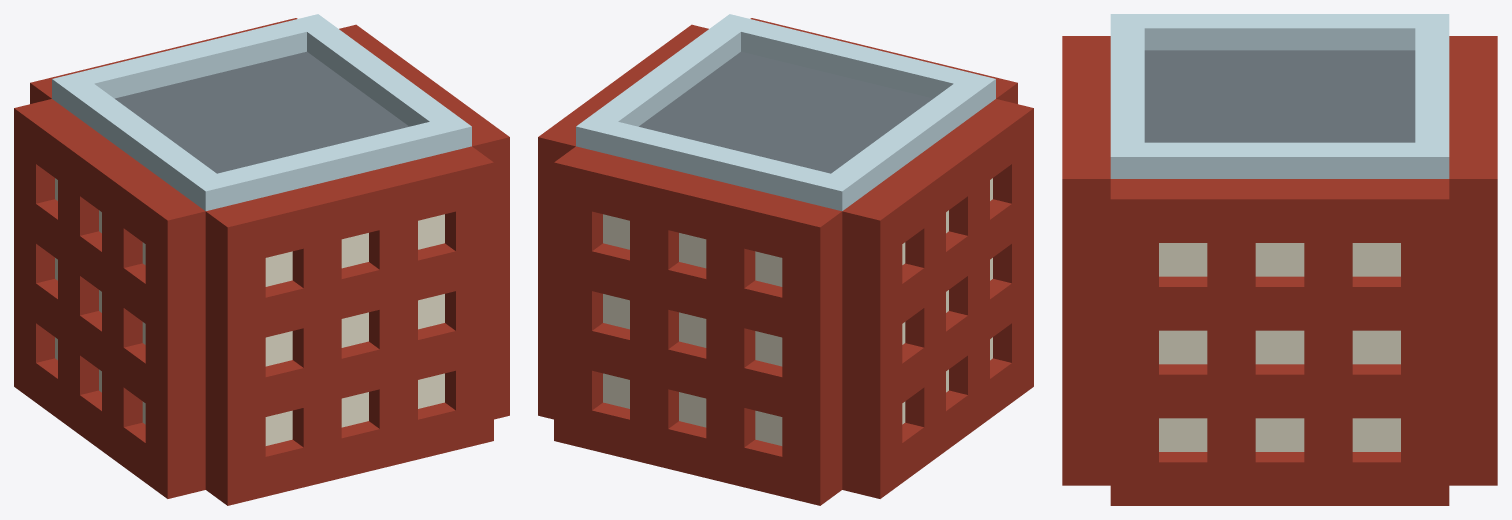
The model's file is Building_1 (Red).obj.
3 views of the same model, side by side, from view 1: azimuth 30°, elevation 25°; view 2: azimuth 150°, elevation 25°; view 3: azimuth 270°, elevation 25° (orthographic). The views are drawn at different scales.
Visible parts, largest first — view 1: Building_1_(Red); view 2: Building_1_(Red); view 3: Building_1_(Red).
Boxes of the visible parts, x1,y1,x2,y2 form: Building_1_(Red): [14, 14, 509, 505]; Building_1_(Red): [538, 14, 1033, 505]; Building_1_(Red): [1062, 14, 1497, 505].
Bounding box in the file's own units: 1.8 × 1.5 × 1.8.
